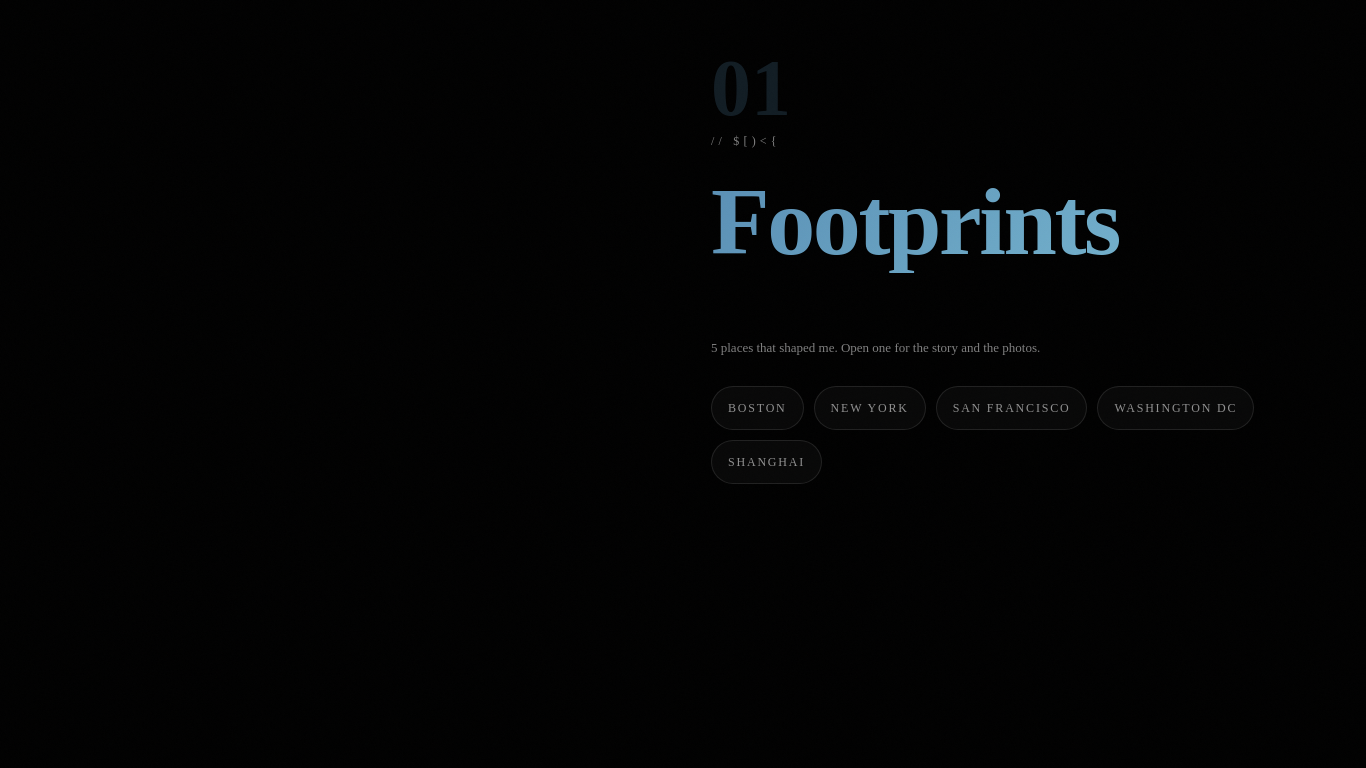
Test case: Footprints › closes on Escape and hands focus back to the chip that opened it
Click the button "New York" at (870, 408), box 814,386 -> 926,430
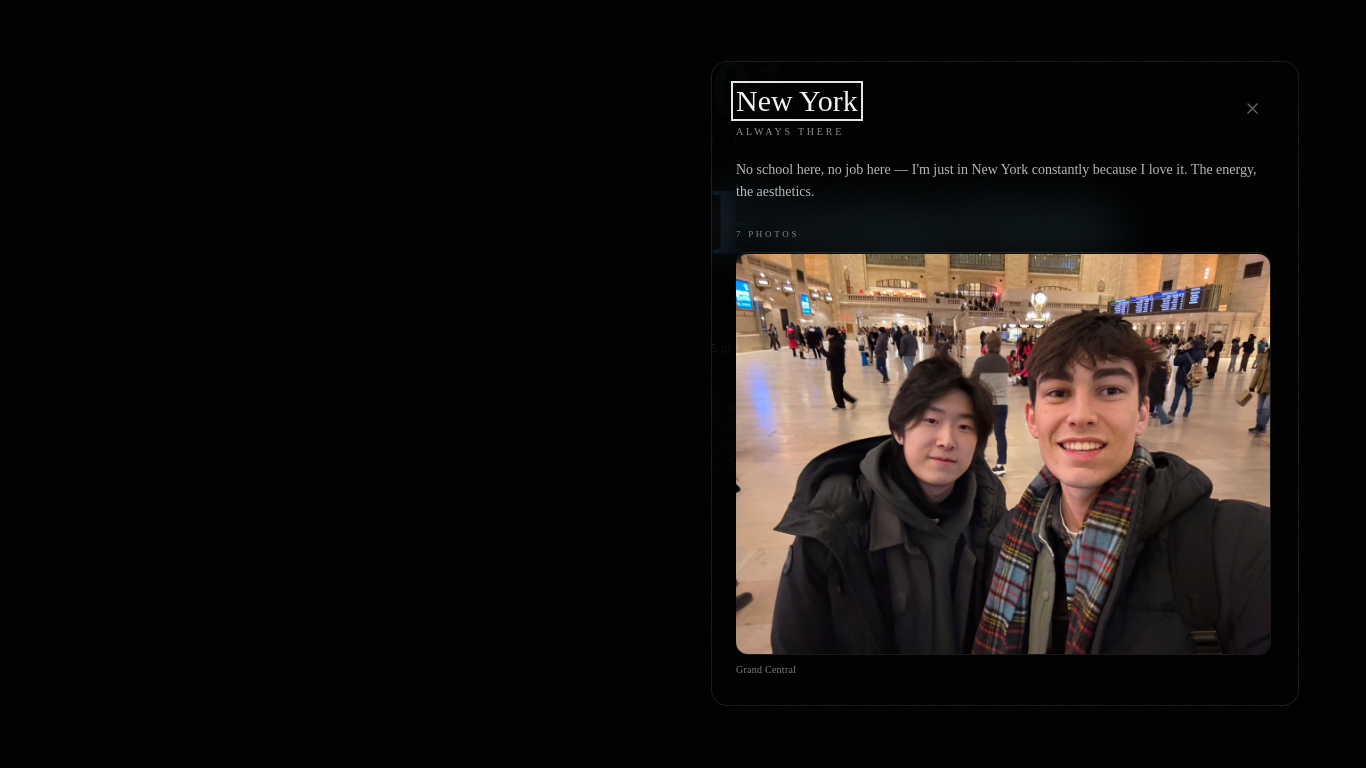
Now the dialog is shown, box 711,61 -> 1299,706
Press Escape
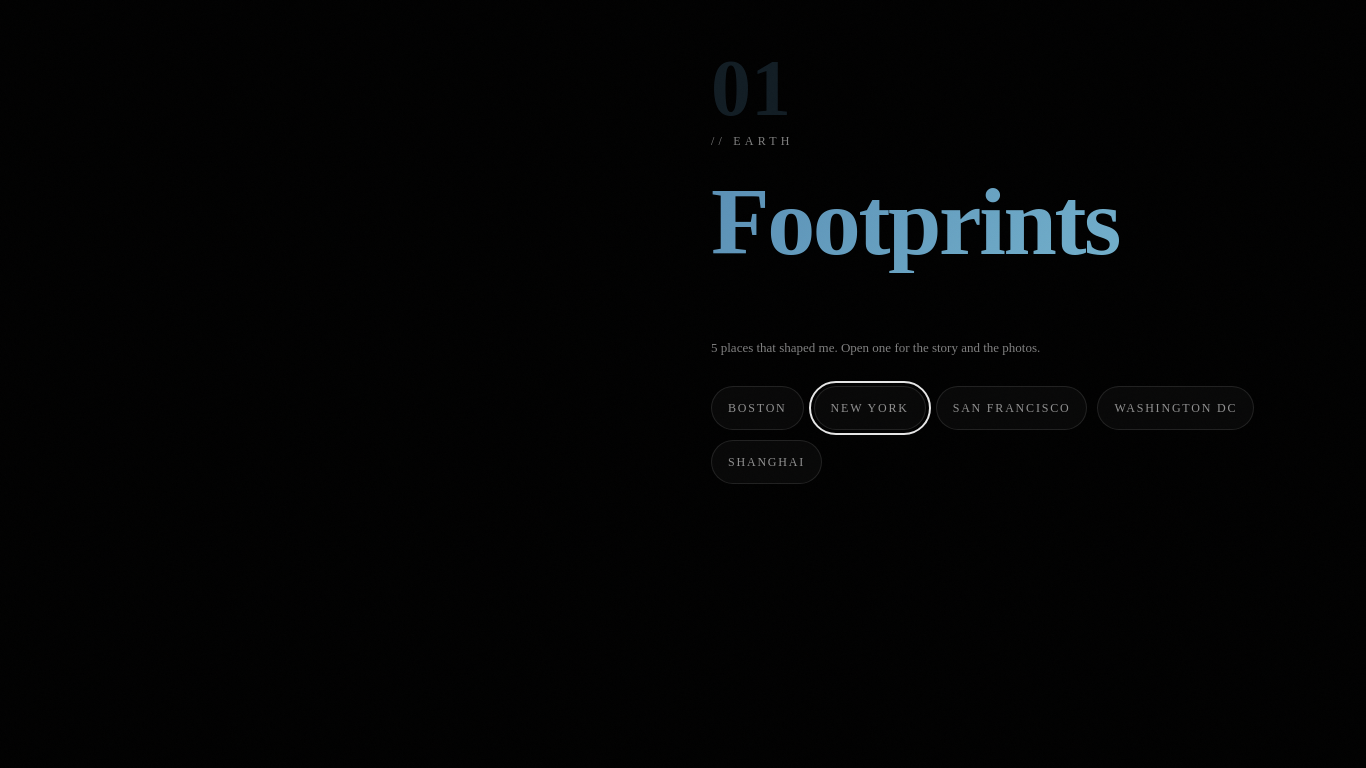
Now the dialog is gone
